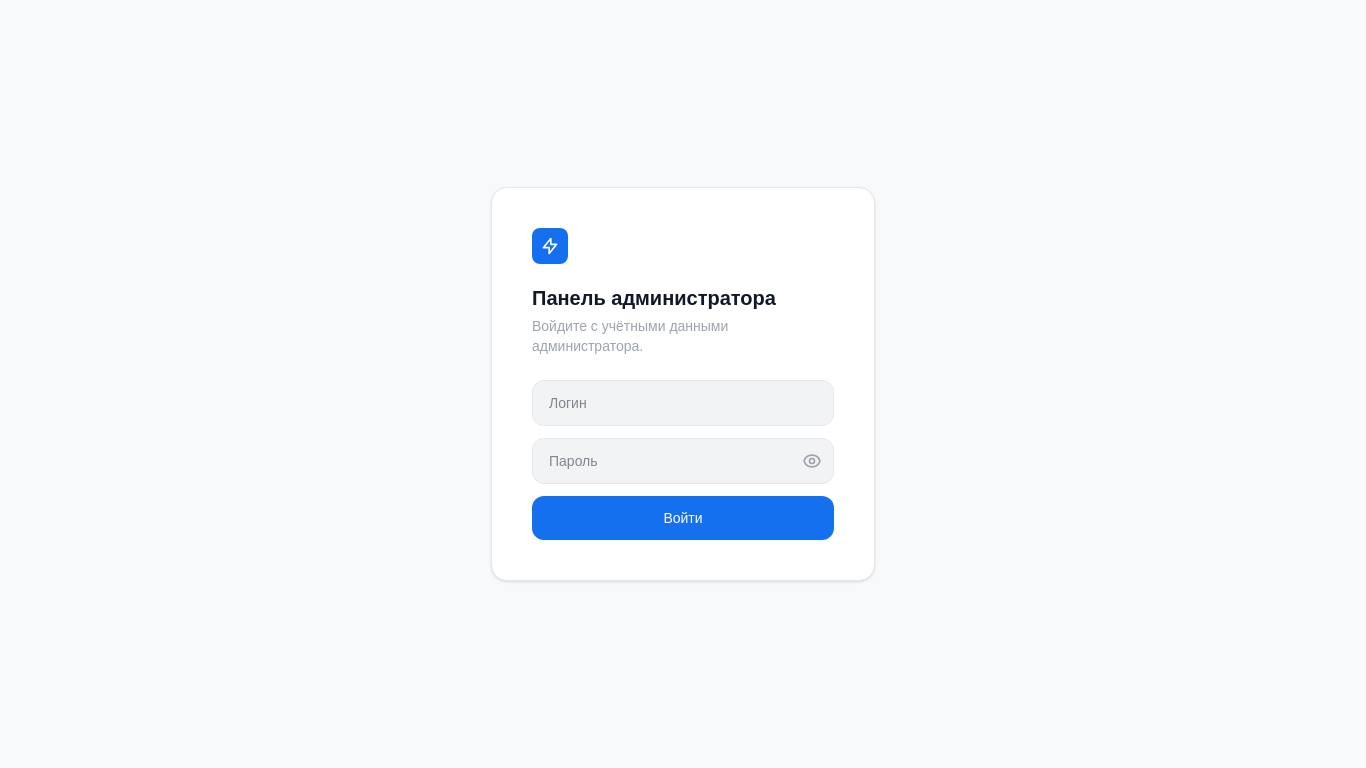
Test: AdminPage — загрузка и аутентификация › успешный вход показывает панель с пользователями
Type "admin" into the field with placeholder "Логин" at (683, 403), box [532,380,834,426]
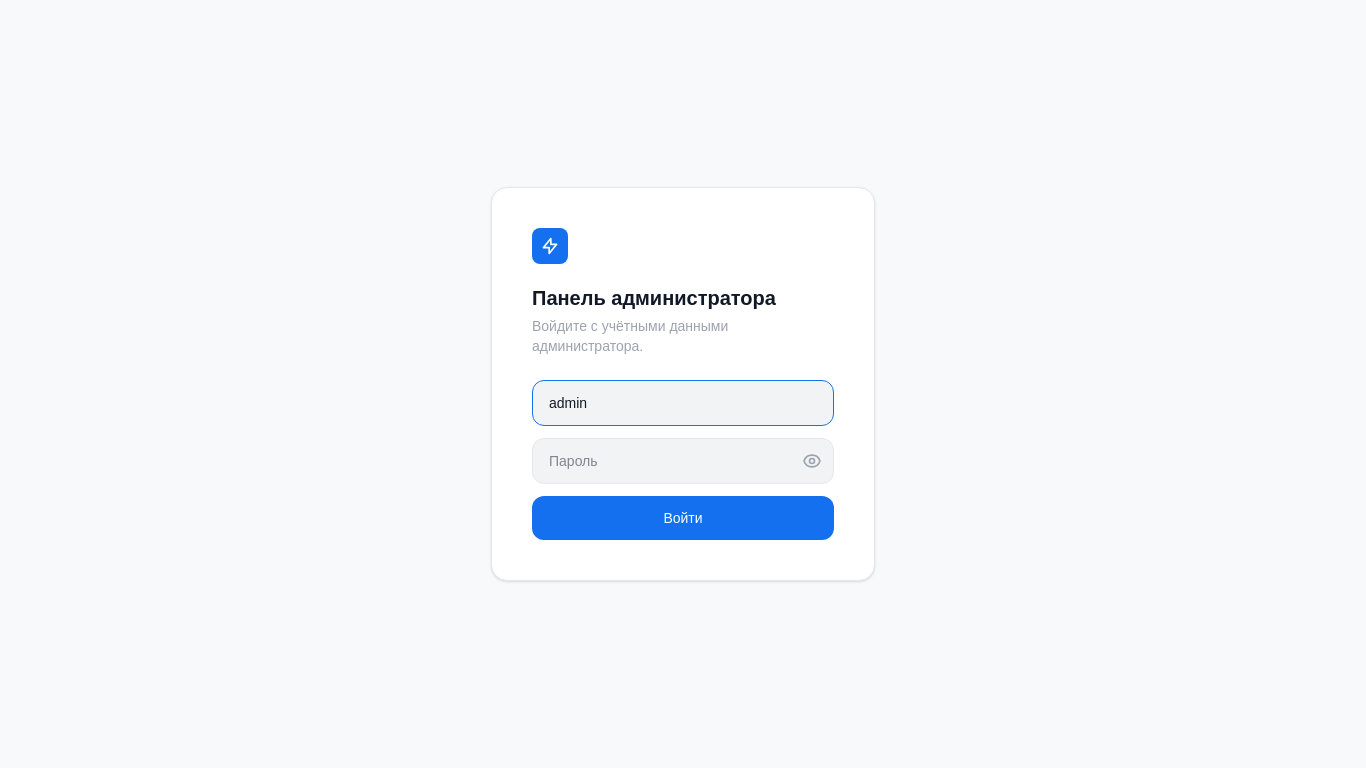
Type "secret" into the password field with placeholder "Пароль" at (683, 461), box [532,438,834,484]
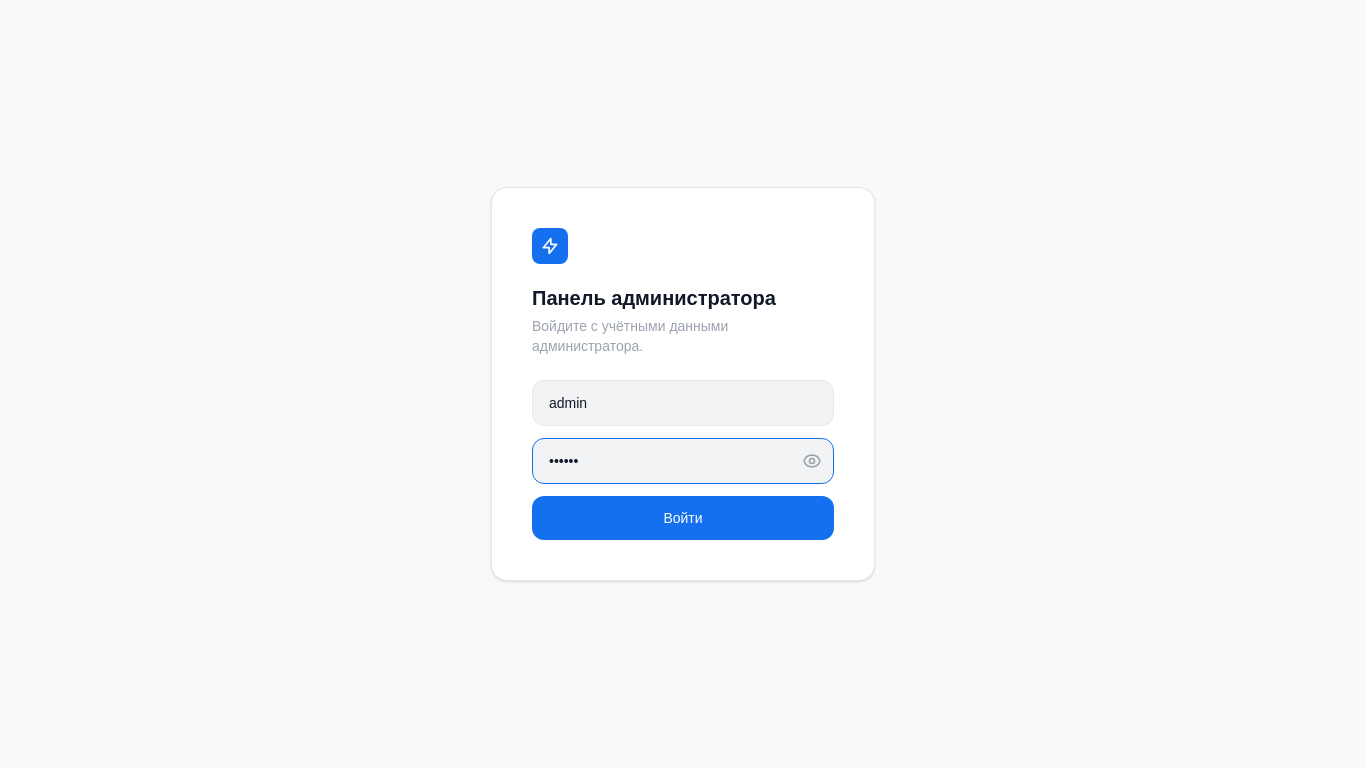
Click the button "Войти" at (683, 518), box [532,496,834,540]
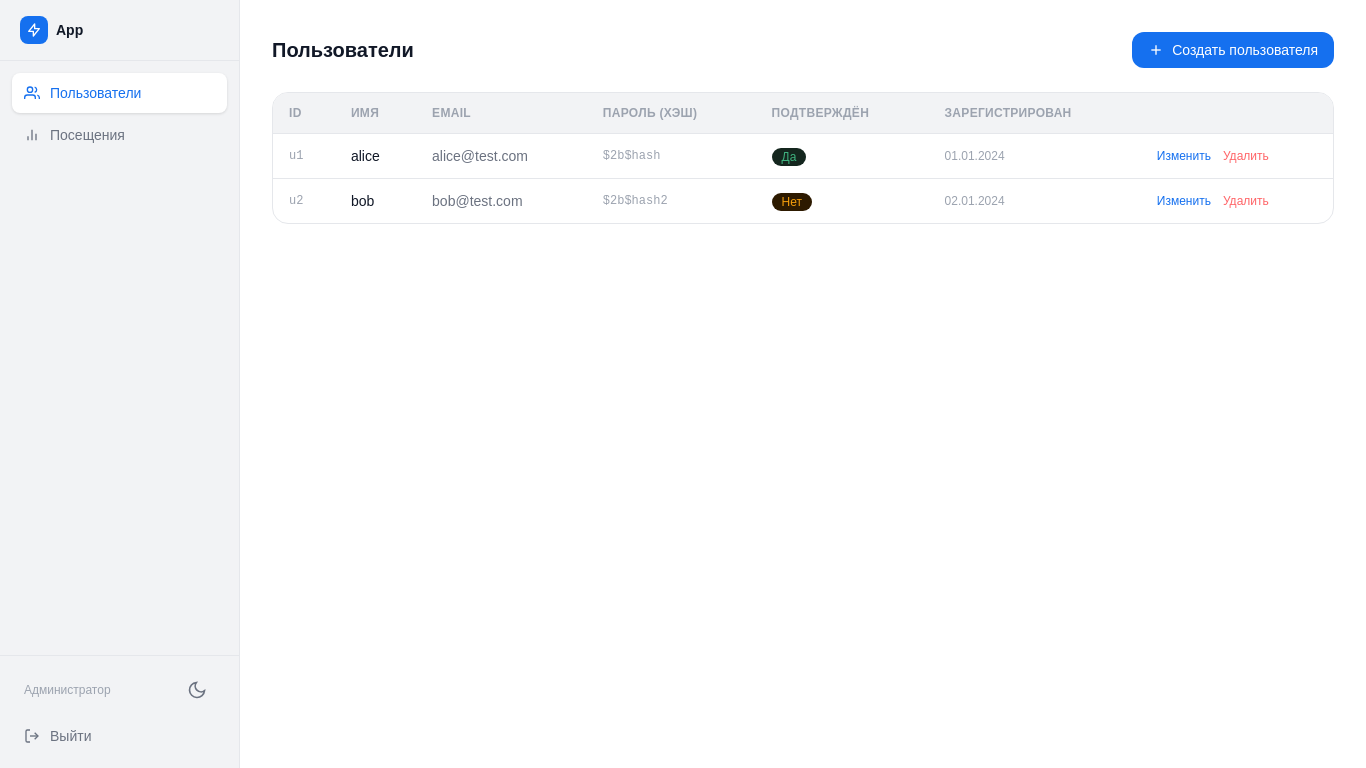
Now the text "alice" is shown, box [335,134,416,178]
